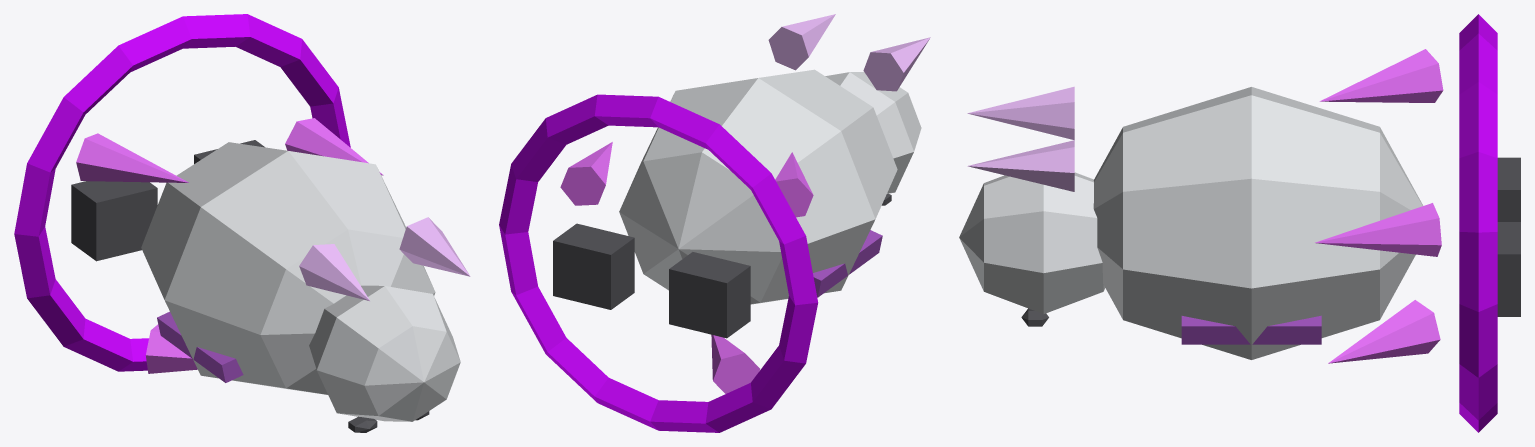
File: TD_Enemy_Standard_Chaos.fbx
3 renders of one model, left to right at view 1: azimuth 30°, elevation 25°; view 2: azimuth 150°, elevation 25°; view 3: azimuth 270°, elevation 25°, orthographic. The views are drawn at different scales.
Parts seen in each view (by area): view 1: TD_Enemy_Standard_Chaos_Body, TD_Enemy_Standard_Chaos_ChaosAura_Ring, TD_Enemy_Standard_Chaos_Head, TD_Enemy_Standard_Chaos_Foot_Left, TD_Enemy_Standard_Chaos_ChaosFlameWisp_02, TD_Enemy_Standard_Chaos_ChaosEnergySpike_01, TD_Enemy_Standard_Chaos_ChaosEnergySpike_02, TD_Enemy_Standard_Chaos_ChaosFlameWisp_01, TD_Enemy_Standard_Chaos_ChaosAccent_01, TD_Enemy_Standard_Chaos_ChaosFlameWisp_03; view 2: TD_Enemy_Standard_Chaos_Body, TD_Enemy_Standard_Chaos_ChaosAura_Ring, TD_Enemy_Standard_Chaos_Foot_Left, TD_Enemy_Standard_Chaos_Foot_Right, TD_Enemy_Standard_Chaos_Head, TD_Enemy_Standard_Chaos_ChaosFlameWisp_01, TD_Enemy_Standard_Chaos_ChaosEnergySpike_01, TD_Enemy_Standard_Chaos_ChaosEnergySpike_02, TD_Enemy_Standard_Chaos_ChaosFlameWisp_03, TD_Enemy_Standard_Chaos_ChaosFlameWisp_02, TD_Enemy_Standard_Chaos_ChaosAccent_01; view 3: TD_Enemy_Standard_Chaos_Body, TD_Enemy_Standard_Chaos_ChaosAura_Ring, TD_Enemy_Standard_Chaos_Head, TD_Enemy_Standard_Chaos_ChaosFlameWisp_02, TD_Enemy_Standard_Chaos_ChaosFlameWisp_01, TD_Enemy_Standard_Chaos_ChaosFlameWisp_03, TD_Enemy_Standard_Chaos_ChaosEnergySpike_01, TD_Enemy_Standard_Chaos_ChaosAccent_02, TD_Enemy_Standard_Chaos_ChaosEnergySpike_02, TD_Enemy_Standard_Chaos_Foot_Right, TD_Enemy_Standard_Chaos_Foot_Left.
Boxes of the visible parts, x1,y1,x2,y2 form: TD_Enemy_Standard_Chaos_Body: (141, 142, 435, 394); TD_Enemy_Standard_Chaos_ChaosAura_Ring: (14, 14, 350, 371); TD_Enemy_Standard_Chaos_Head: (309, 285, 460, 421); TD_Enemy_Standard_Chaos_Foot_Left: (71, 181, 157, 261); TD_Enemy_Standard_Chaos_ChaosFlameWisp_02: (76, 133, 188, 182); TD_Enemy_Standard_Chaos_ChaosEnergySpike_01: (299, 244, 369, 300); TD_Enemy_Standard_Chaos_ChaosEnergySpike_02: (399, 217, 470, 276); TD_Enemy_Standard_Chaos_ChaosFlameWisp_01: (285, 118, 383, 175); TD_Enemy_Standard_Chaos_ChaosAccent_01: (157, 311, 243, 382); TD_Enemy_Standard_Chaos_ChaosFlameWisp_03: (145, 324, 197, 373); TD_Enemy_Standard_Chaos_Body: (619, 69, 897, 304); TD_Enemy_Standard_Chaos_ChaosAura_Ring: (499, 94, 818, 432); TD_Enemy_Standard_Chaos_Foot_Left: (669, 252, 750, 338); TD_Enemy_Standard_Chaos_Foot_Right: (553, 223, 634, 309); TD_Enemy_Standard_Chaos_Head: (825, 72, 921, 193); TD_Enemy_Standard_Chaos_ChaosFlameWisp_01: (560, 142, 612, 205); TD_Enemy_Standard_Chaos_ChaosEnergySpike_01: (863, 37, 930, 91); TD_Enemy_Standard_Chaos_ChaosEnergySpike_02: (768, 14, 835, 70); TD_Enemy_Standard_Chaos_ChaosFlameWisp_03: (711, 334, 759, 393); TD_Enemy_Standard_Chaos_ChaosFlameWisp_02: (775, 152, 813, 217); TD_Enemy_Standard_Chaos_ChaosAccent_01: (813, 230, 882, 297); TD_Enemy_Standard_Chaos_Body: (1093, 87, 1423, 359); TD_Enemy_Standard_Chaos_ChaosAura_Ring: (1459, 14, 1497, 432); TD_Enemy_Standard_Chaos_Head: (959, 172, 1104, 314); TD_Enemy_Standard_Chaos_ChaosFlameWisp_02: (1319, 49, 1443, 102); TD_Enemy_Standard_Chaos_ChaosFlameWisp_01: (1315, 203, 1441, 256); TD_Enemy_Standard_Chaos_ChaosFlameWisp_03: (1328, 300, 1440, 363); TD_Enemy_Standard_Chaos_ChaosEnergySpike_01: (967, 86, 1074, 139); TD_Enemy_Standard_Chaos_ChaosAccent_02: (1181, 315, 1321, 344); TD_Enemy_Standard_Chaos_ChaosEnergySpike_02: (967, 140, 1074, 191); TD_Enemy_Standard_Chaos_Foot_Right: (1497, 222, 1520, 316); TD_Enemy_Standard_Chaos_Foot_Left: (1497, 157, 1520, 221).
Size of the model in its own units: 0.545 by 0.545 by 0.73.
